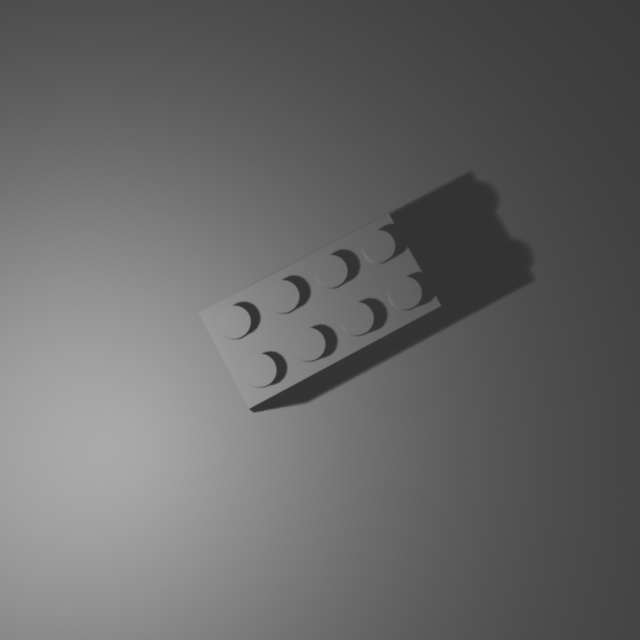lego_2x4: (197, 210, 443, 413)
